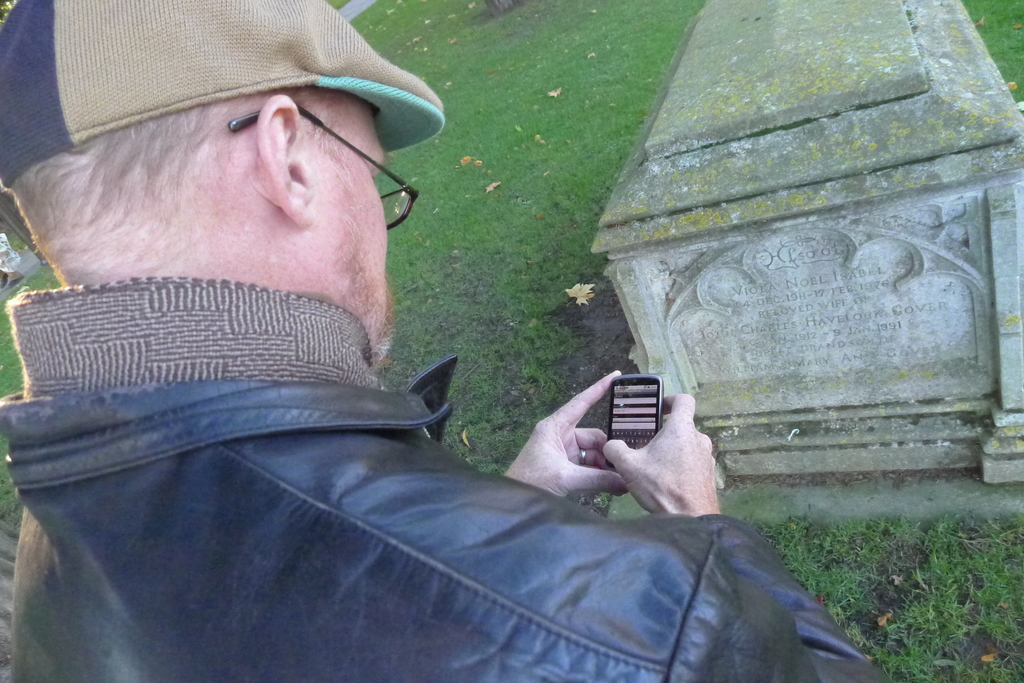Mobile-phone: (609, 373, 664, 468)
